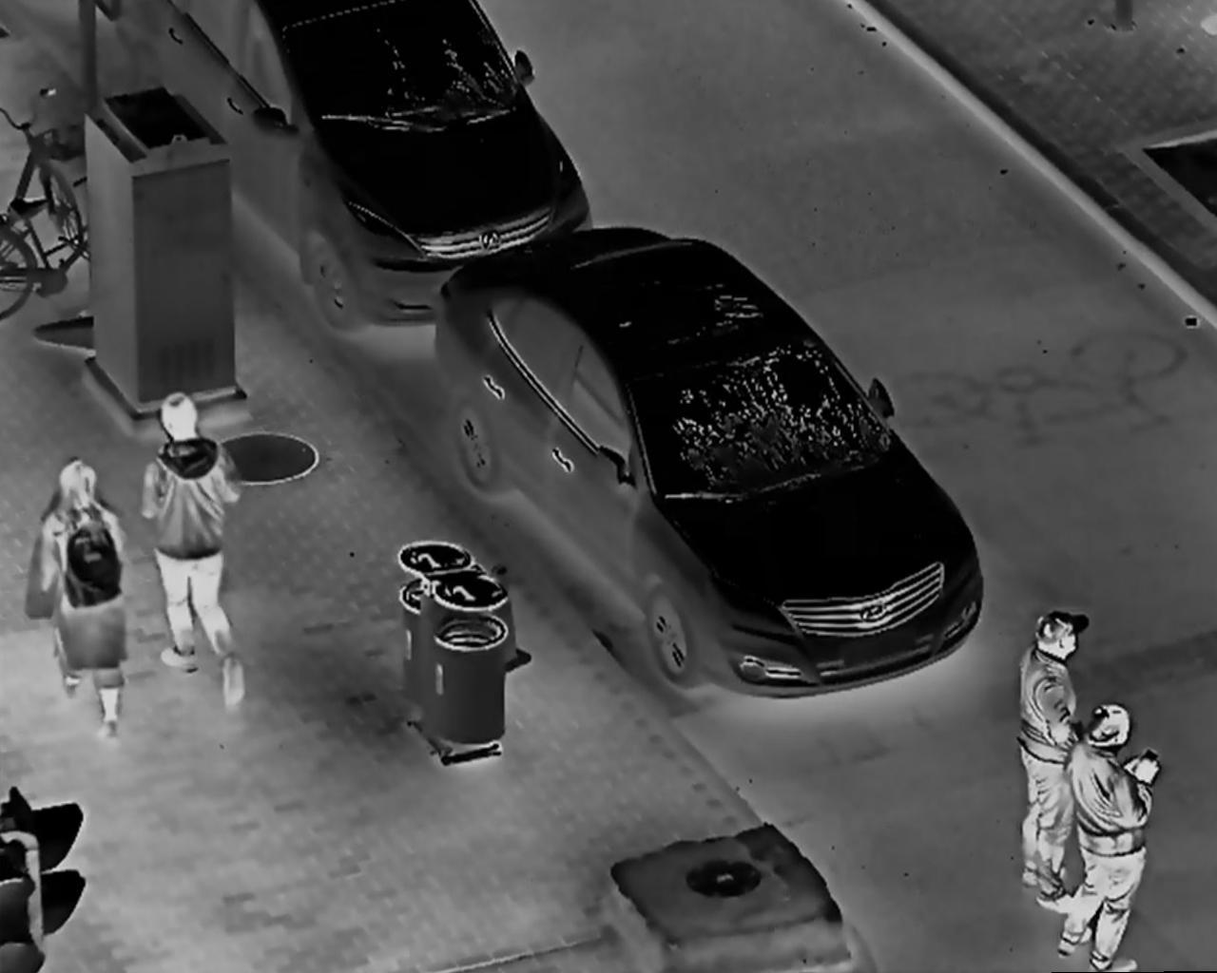person: (138, 398, 253, 699), (27, 462, 132, 744), (1061, 700, 1153, 973), (1007, 601, 1079, 906)
